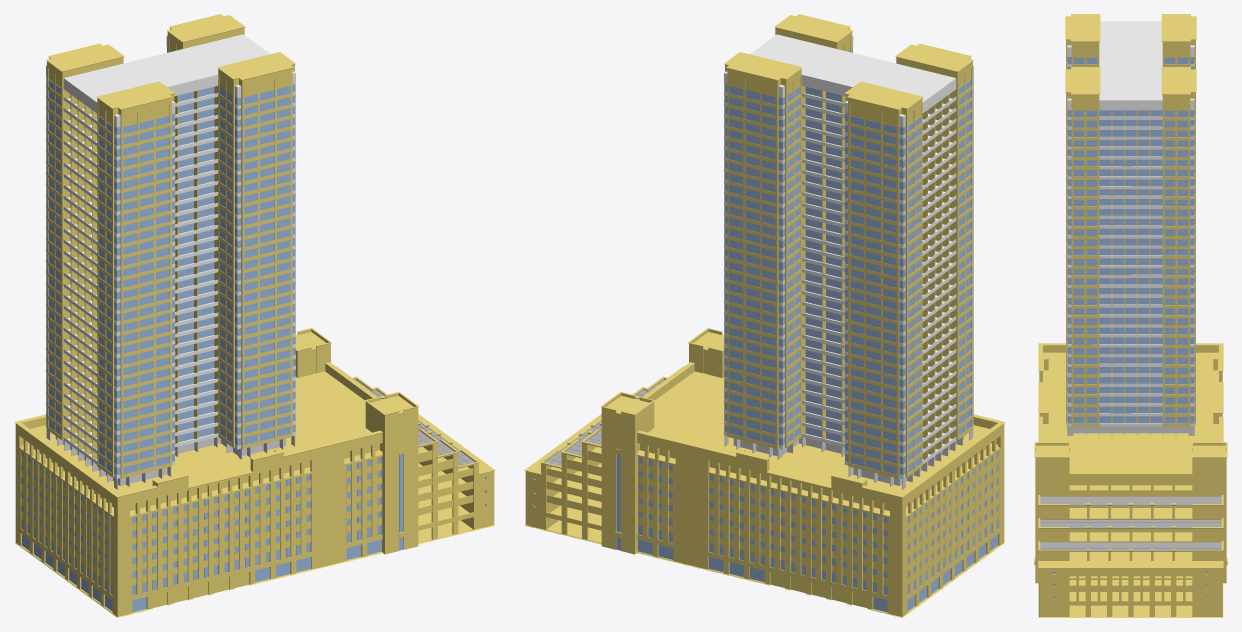
The model's file is building.glb.
3 views of the same model, side by side, from view 1: azimuth 30°, elevation 25°; view 2: azimuth 150°, elevation 25°; view 3: azimuth 270°, elevation 25° (orthographic). The views are drawn at different scales.
Parts seen in each view (by area): view 1: 2.001_2, 2.001, 3.001, 1.001, 4356.001, 4356.001_4356, 4356.003_4356, 4356.002_4356, 1.001_1, 22.001, 23213.080, 23213.081 (+61 smaller); view 2: 2.001, 2.001_2, 3.001_3, 1.001_1, 4356.002_4356, 4356.003_4356, 4356.001_4356, 4356.001, 1.001, 22.001_22, 23213.049, 23213.050 (+61 smaller); view 3: 3.001_3, 3.001, 2.001_2, 2.001, 4356.002_4356, 4356.001, 4356.003_4356, 4356.001_4356, 1.001_1, 1.001, 23213.035, 23213.044 (+79 smaller).
Part boxes in pixels (box(x1,y1,x2,y2)): 2.001_2: box(66, 387, 403, 616); 2.001: box(15, 362, 362, 579); 3.001: box(418, 429, 494, 543); 1.001: box(365, 392, 418, 554); 4356.001: box(171, 47, 295, 98); 4356.001_4356: box(81, 69, 188, 127); 4356.003_4356: box(46, 44, 170, 101); 4356.002_4356: box(153, 14, 260, 68); 1.001_1: box(295, 328, 330, 377); 22.001: box(184, 84, 295, 109); 23213.080: box(184, 238, 295, 262); 23213.081: box(184, 227, 295, 251); 2.001: box(616, 387, 953, 616); 2.001_2: box(657, 362, 1004, 579); 3.001_3: box(525, 429, 601, 543); 1.001_1: box(601, 392, 654, 554); 4356.002_4356: box(724, 47, 848, 98); 4356.003_4356: box(831, 69, 938, 127); 4356.001_4356: box(849, 44, 973, 101); 4356.001: box(759, 14, 866, 68); 1.001: box(689, 328, 724, 377); 22.001_22: box(724, 84, 835, 109); 23213.049: box(724, 238, 835, 262); 23213.050: box(724, 227, 835, 251); 3.001_3: box(1131, 495, 1222, 616); 3.001: box(1039, 495, 1130, 616); 2.001_2: box(1039, 343, 1130, 507); 2.001: box(1131, 343, 1222, 507); 4356.002_4356: box(1131, 61, 1195, 110); 4356.001: box(1066, 61, 1130, 110); 4356.003_4356: box(1131, 14, 1195, 60); 4356.001_4356: box(1066, 14, 1130, 60); 1.001_1: box(1192, 442, 1227, 583); 1.001: box(1034, 442, 1069, 583); 23213.035: box(1131, 395, 1195, 407); 23213.044: box(1131, 306, 1195, 318).
Bounding box in the file's own units: 190 × 237 × 93.55.
